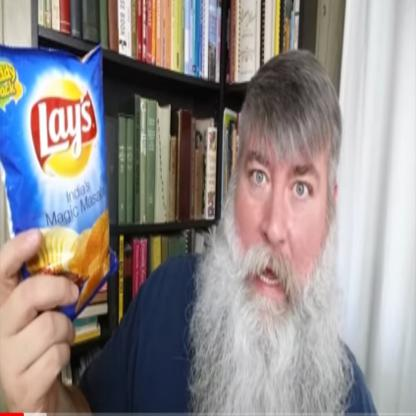plastic: (0, 46, 118, 319)
